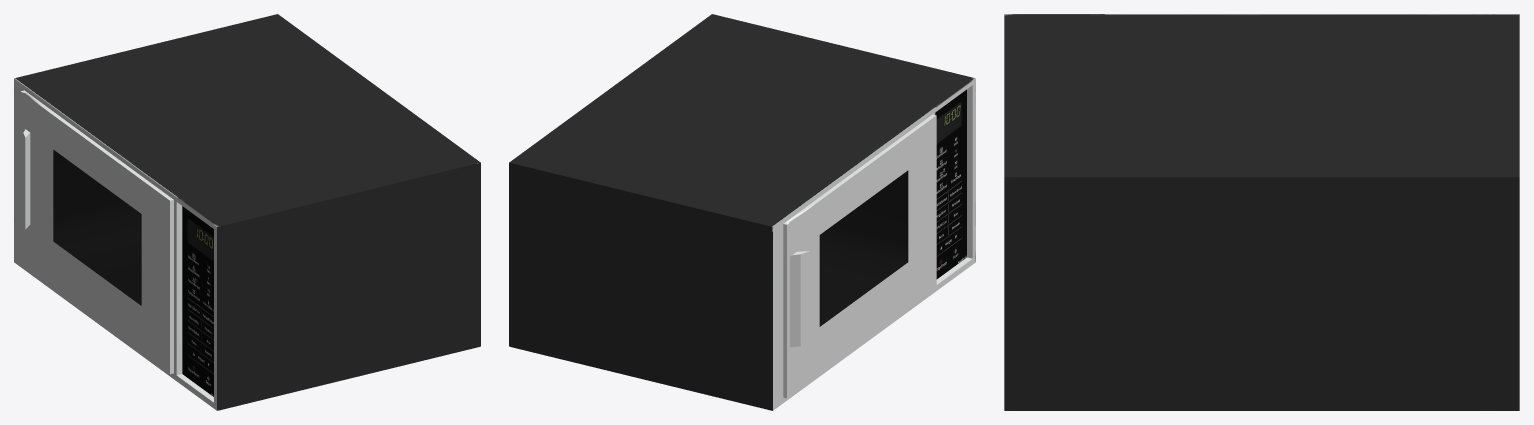
The model's file is MicrowaveFInalUV.fbx.
The picture shows the model from 3 angles, left to right: view 1: azimuth 30°, elevation 25°; view 2: azimuth 150°, elevation 25°; view 3: azimuth 270°, elevation 25°; orthographic projection. The views are drawn at different scales.
Visible parts, largest first — view 1: Microwave; view 2: Microwave; view 3: Microwave.
Boxes of the visible parts, x1=… form: Microwave: x1=14, y1=14, x2=480, y2=410; Microwave: x1=509, y1=14, x2=975, y2=410; Microwave: x1=1004, y1=14, x2=1519, y2=410.
Bounding box in the file's own units: 45.86 × 29.15 × 58.3.
Materials: 3 (1 with a texture image).
